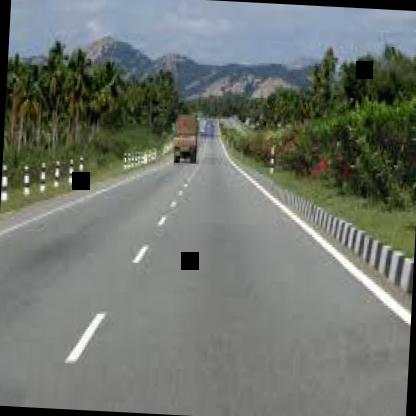car: (165, 110, 201, 171), (198, 103, 221, 149)
